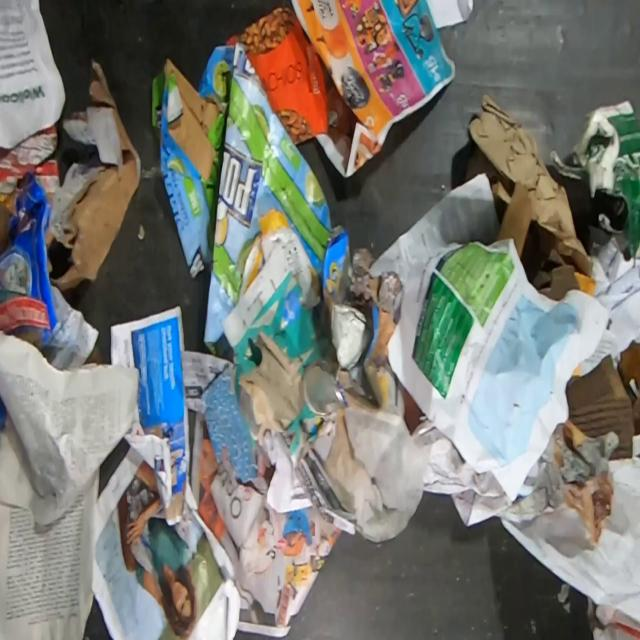cardboard: (151, 39, 353, 356), (49, 60, 141, 292), (0, 169, 62, 352), (344, 245, 404, 416), (566, 338, 640, 461), (237, 329, 314, 447), (496, 179, 531, 260)
metal: (300, 364, 345, 419)
soft_plastic: (226, 4, 329, 144)
